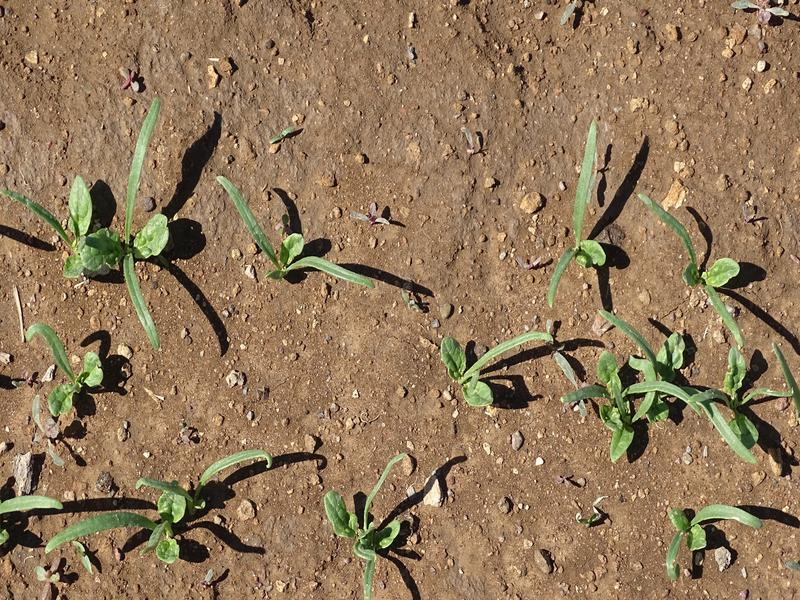Espinaca: (21, 95, 167, 323), (557, 317, 787, 461), (1, 447, 276, 566), (209, 166, 373, 294), (315, 453, 417, 588), (639, 192, 737, 313), (544, 125, 605, 311), (436, 322, 546, 415), (21, 324, 107, 422), (655, 502, 765, 574)
